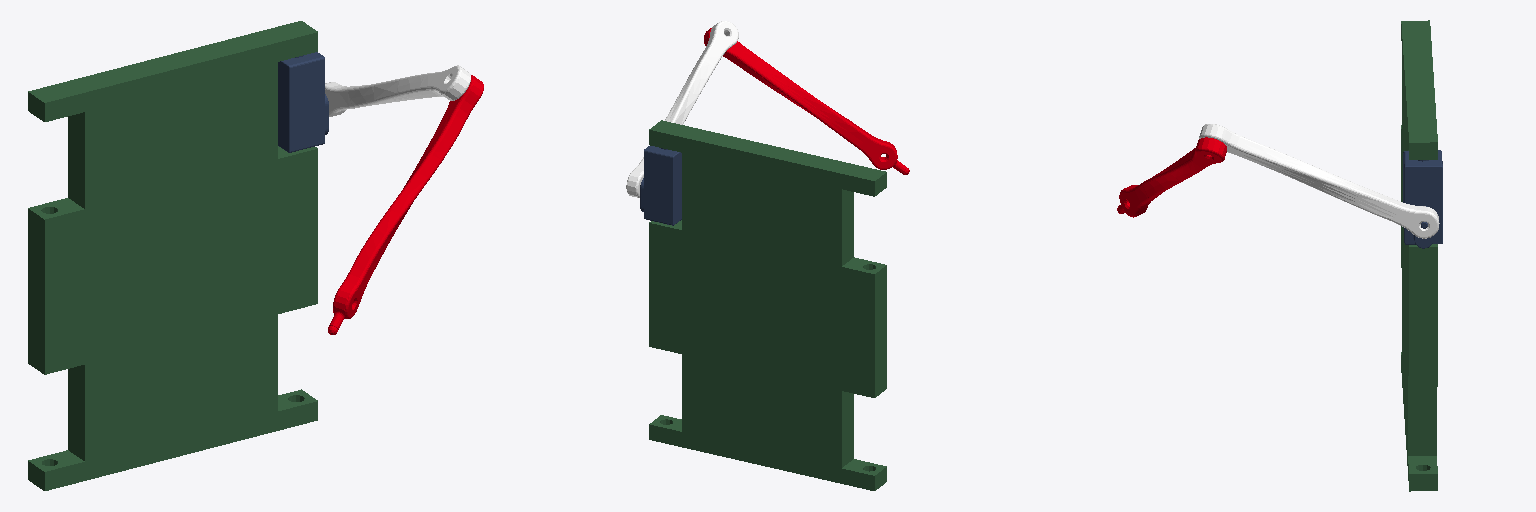
The robot description file, URDF, robot "leg":
<?xml version="1.0" encoding="utf-8"?>
<!-- This URDF was automatically created by SolidWorks to URDF Exporter! Originally created by [author] ([email redacted]) 
     Commit Version: 1.5.1-0-g916b5db  Build Version: 1.5.7152.31018
     For more information, please see http://wiki.ros.org/sw_urdf_exporter -->
<robot
  name="leg">
  <link
    name="base_link">
    <inertial>
      <origin
        xyz="4.85722573273506E-17 -2.08166817117217E-17 -3.46944695195361E-18"
        rpy="0 0 0" />
      <mass
        value="0.380984071052554" />
      <inertia
        ixx="0.00120391339495054"
        ixy="-1.49901280359044E-05"
        ixz="-7.61006163548785E-20"
        iyy="0.00175290607358735"
        iyz="-1.44756607196781E-21"
        izz="0.000564186546301619" />
    </inertial>
    <visual>
      <origin
        xyz="0 0 0"
        rpy="0 0 0" />
      <geometry>
        <mesh
          filename="meshes/base_link.obj" />
      </geometry>
      <material
        name="">
        <color
          rgba="0.26701571 0.42931937 0.30366492 0.8" />
      </material>
    </visual>
    <collision>
      <origin
        xyz="0 0 0"
        rpy="0 0 0" />
      <geometry>
        <mesh
          filename="meshes/base_link.obj" />
      </geometry>
    </collision>
  </link>
  <link
    name="link1">
    <inertial>
      <origin
        xyz="0.000711269049524425 -1.92258341191742E-10 0.031903901323086"
        rpy="0 0 0" />
      <mass
        value="0.0200663112965445" />
      <inertia
        ixx="4.56389881358198E-06"
        ixy="3.38288116942003E-14"
        ixz="1.44359193529591E-07"
        iyy="4.73989088745159E-06"
        iyz="-5.72263510022917E-14"
        izz="1.3937446060137E-06" />
    </inertial>
    <visual>
      <origin
        xyz="0 0 0"
        rpy="0 0 0" />
      <geometry>
        <mesh
          filename="meshes/link1.obj" />
      </geometry>
      <material
        name="">
        <color
          rgba="0.25403226 0.31451613 0.43145161 1" />
      </material>
    </visual>
    <collision>
      <origin
        xyz="0 0 0"
        rpy="0 0 0" />
      <geometry>
        <mesh
          filename="meshes/link1.obj" />
      </geometry>
    </collision>
  </link>
  <joint
    name="joint1"
    type="revolute">
    <origin
      xyz="0.067475 0.001841 0.0325"
      rpy="0 0 0.027278" />
    <parent
      link="base_link" />
    <child
      link="link1" />
    <axis
      xyz="0 0 1" />
    <limit
      lower="-3.14"
      upper="3.14"
      effort="100"
      velocity="1" />
    
  </joint>
  <link
    name="link2">
    <inertial>
      <origin
        xyz="0.0176105330843419 0.0103840905252749 0.0573746699369492"
        rpy="0 0 0" />
      <mass
        value="0.0107282562268468" />
      <inertia
        ixx="1.69021389865762E-05"
        ixy="-4.63740737402675E-08"
        ixz="-5.05443932051472E-06"
        iyy="1.84578290251384E-05"
        iyz="-2.08198725469551E-07"
        izz="1.69328981034297E-06" />
    </inertial>
    <visual>
      <origin
        xyz="0 0 0"
        rpy="0 0 0" />
      <geometry>
        <mesh
          filename="meshes/link2.obj" />
      </geometry>
      <material
        name="">
        <color
          rgba="1 1 1 1" />
      </material>
    </visual>
    <collision>
      <origin
        xyz="0 0 0"
        rpy="0 0 0" />
      <geometry>
        <mesh
          filename="meshes/link2.obj" />
      </geometry>
    </collision>
  </link>
  <joint
    name="joint2"
    type="revolute">
    <origin
      xyz="0.0092017 0 0.027"
      rpy="0 0.83224 -1.5708" />
    <parent
      link="link1" />
    <child
      link="link2" />
    <axis
      xyz="0 -1 0" />
    <limit
      lower="-3.14"
      upper="3.14"
      effort="100"
      velocity="1" />
    
  </joint>
  <link
    name="link3">
    <inertial>
      <origin
        xyz="0.0612931163144833 0.00122744147473432 0.000917591588031903"
        rpy="0 0 0" />
      <mass
        value="0.0109227524497726" />
      <inertia
        ixx="2.69498473248878E-07"
        ixy="-8.79268570870549E-07"
        ixz="1.07663019156803E-06"
        iyy="1.94965104841738E-05"
        iyz="3.01433905063887E-08"
        izz="1.94842235730983E-05" />
    </inertial>
    <visual>
      <origin
        xyz="0 0 0"
        rpy="0 0 0" />
      <geometry>
        <mesh
          filename="meshes/link3.obj" />
      </geometry>
      <material
        name="">
        <color
          rgba="0.9 0.0 0.1 1" />
      </material>
    </visual>
    <collision>
      <origin
        xyz="0 0 0"
        rpy="0 0 0" />
      <geometry>
        <mesh
          filename="meshes/link3.obj" />
      </geometry>
    </collision>
  </link>
  <joint
    name="joint3"
    type="revolute">
    <origin
      xyz="0.037905 0.013798 0.11386"
      rpy="-2.0908 0.15163 -0.79415" />
    <parent
      link="link2" />
    <child
      link="link3" />
    <axis
      xyz="0 0.288 -0.95763" />
    <limit
      lower="-3.14"
      upper="3.14"
      effort="100"
      velocity="1" />
    
  </joint>
</robot>

--- Render facts (derived) ---
3 views of the same robot in one strip: view 1: azimuth 30°, elevation 25°; view 2: azimuth 150°, elevation 25°; view 3: azimuth 270°, elevation 25° (orthographic).
Model leg with 4 links and 3 joints (3 revolute), rooted at base_link, posed every joint at zero.
Links seen in each view (by area): view 1: base_link, link3, link1, link2; view 2: base_link, link3, link1, link2; view 3: base_link, link2, link3, link1.
Link boxes in pixels (x1,y1,x2,y2): base_link: (28,21,317,490); link3: (328,75,483,334); link1: (278,52,328,152); link2: (325,65,470,116); base_link: (649,120,886,490); link3: (704,28,909,174); link1: (640,146,681,225); link2: (626,21,738,197); base_link: (1401,20,1437,491); link2: (1199,124,1439,238); link3: (1117,137,1226,217); link1: (1403,150,1442,248).
Size in the robot's own frame: 0.1793 by 0.1694 by 0.2188 metres.
Meshes: 4 distinct files referenced, 4 mesh visuals loaded (4 OBJ).